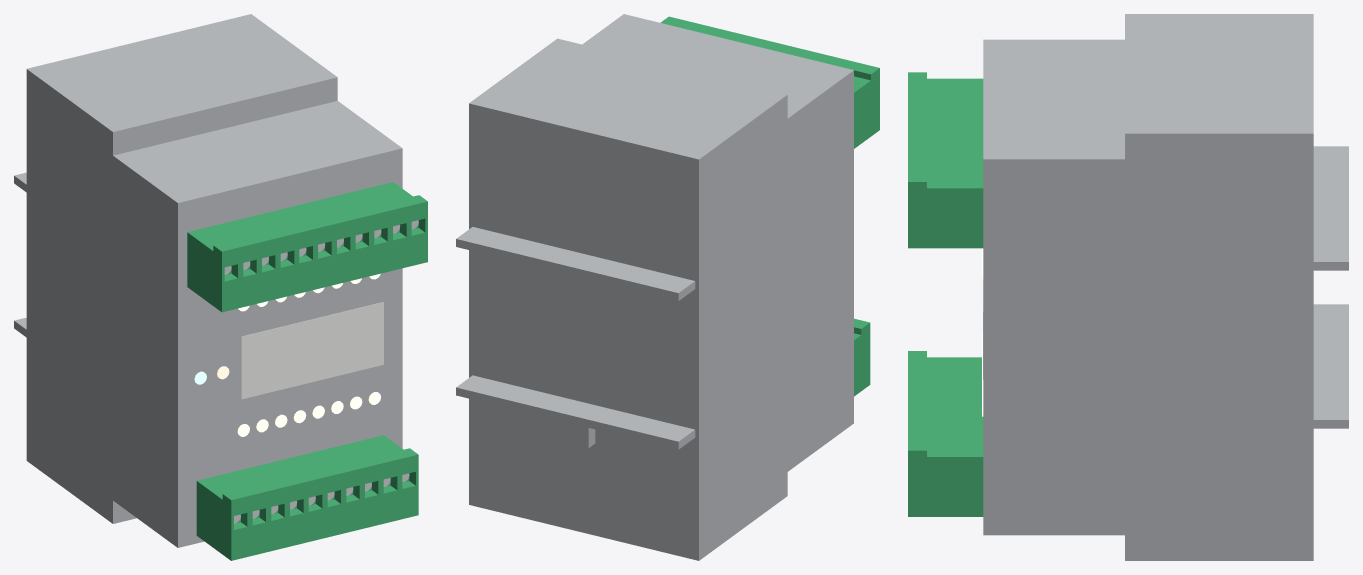
The model's file is plc-dio.glb.
The picture shows the model from 3 angles, left to right: view 1: azimuth 30°, elevation 25°; view 2: azimuth 150°, elevation 25°; view 3: azimuth 270°, elevation 25°; orthographic projection. The views are drawn at different scales.
Parts seen in each view (by area): view 1: body; view 2: body; view 3: body.
Boxes of the visible parts, x1,y1,x2,y2 form: body: (14,14,427,560); body: (456,14,879,560); body: (908,14,1348,560).
Size of what is drawn, in the model's own units: 0.06 by 0.1 by 0.0935.
